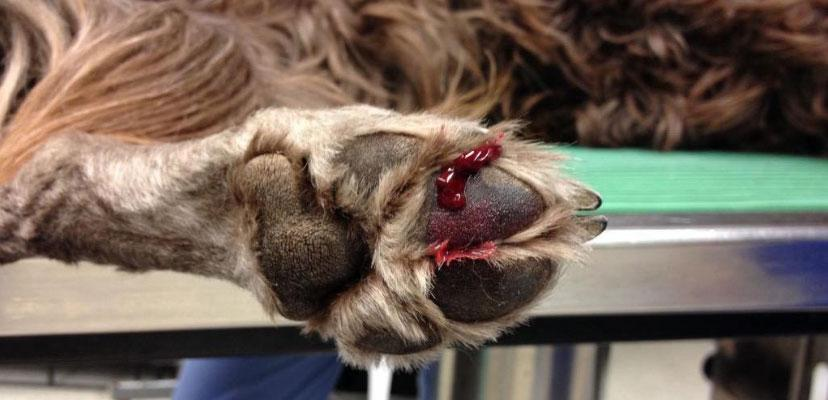cut: (388, 188, 515, 286)
